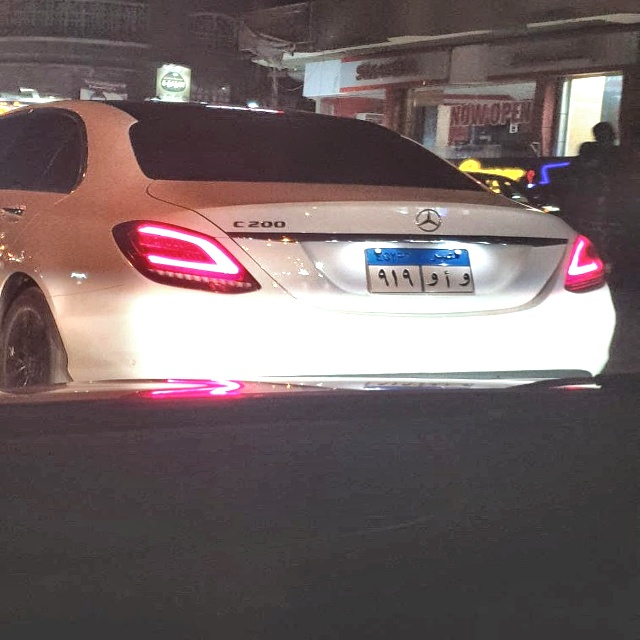License Plate: (366, 246, 476, 296)
